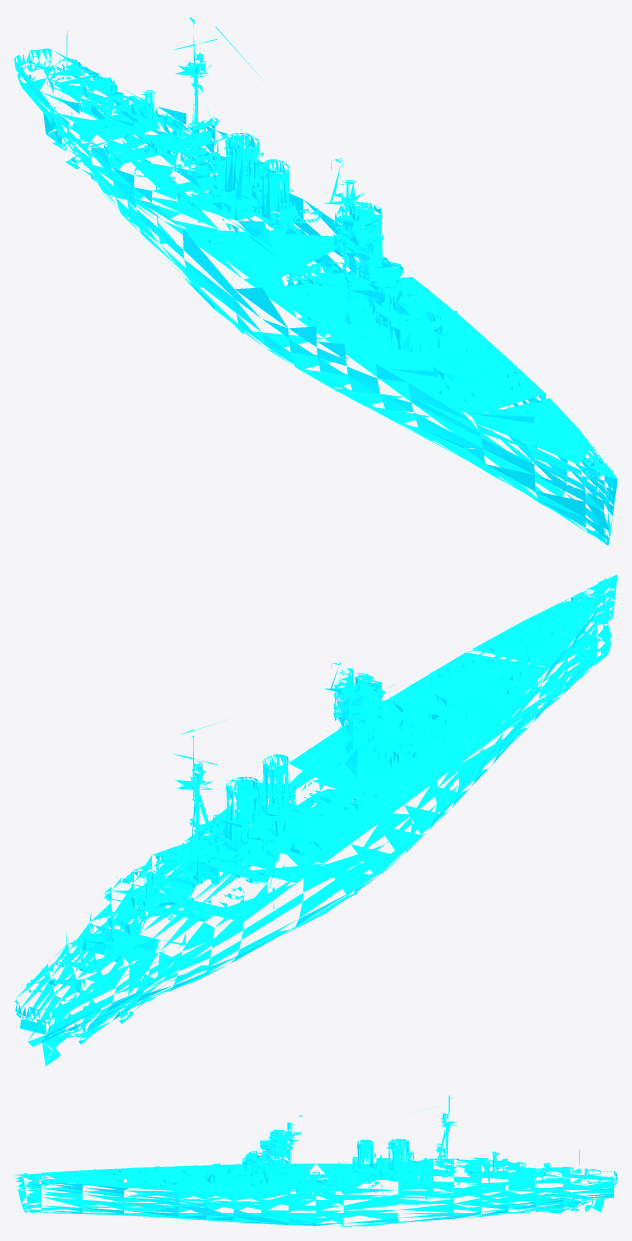
Rendered from Scarlet_Thunder.glb.
The picture shows the model from 3 angles, top to bottom: view 1: azimuth 30°, elevation 25°; view 2: azimuth 150°, elevation 25°; view 3: azimuth 270°, elevation 25°; orthographic projection. The views are drawn at different scales.
Bounding box in the file's own units: 2.16 × 3.76 × 17.52.
